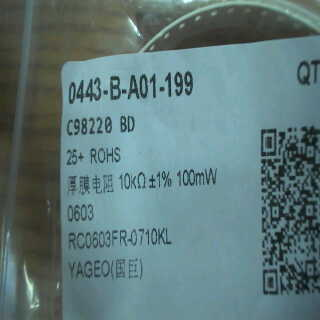10kR: (117, 167, 147, 194)
